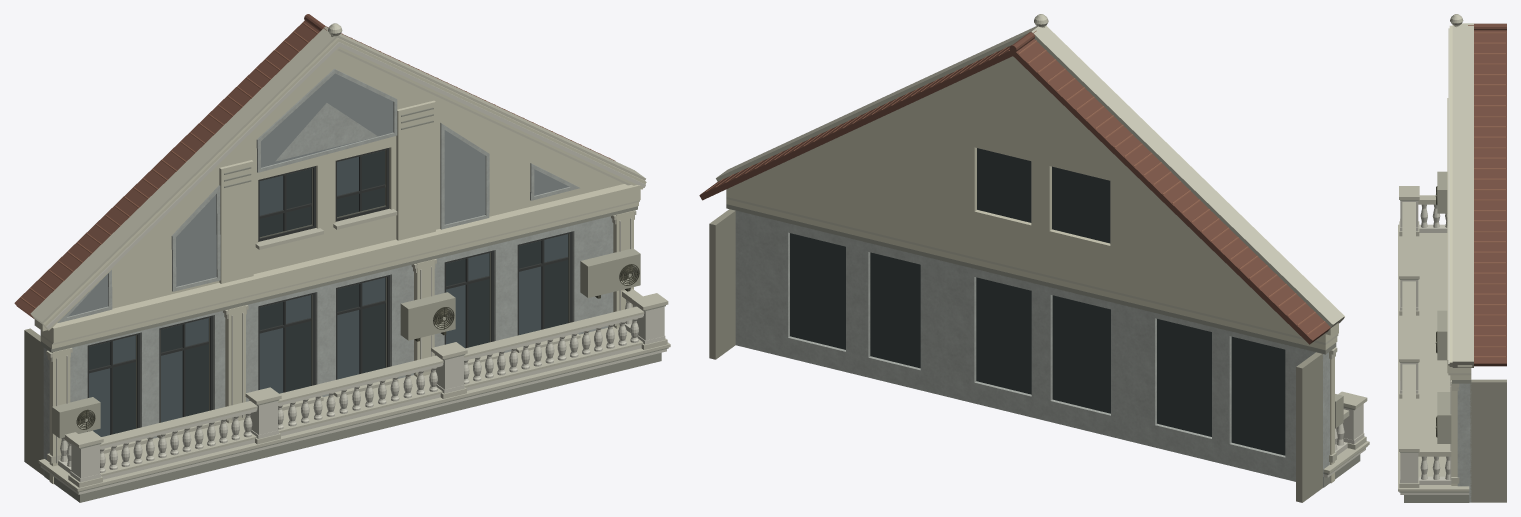
The model's file is yangpu-fudan-zibin-hall-lawn-gable-raw.glb.
3 views of the same model, side by side, from view 1: azimuth 30°, elevation 25°; view 2: azimuth 150°, elevation 25°; view 3: azimuth 270°, elevation 25° (orthographic). The views are drawn at different scales.
Visible parts, largest first — view 1: 复旦大学子彬院草坪侧三角山墙与阳台; view 2: 复旦大学子彬院草坪侧三角山墙与阳台; view 3: 复旦大学子彬院草坪侧三角山墙与阳台.
Boxes of the visible parts, box(x1,y1,x2,y2) form: 复旦大学子彬院草坪侧三角山墙与阳台: box(14, 14, 670, 502); 复旦大学子彬院草坪侧三角山墙与阳台: box(699, 14, 1369, 502); 复旦大学子彬院草坪侧三角山墙与阳台: box(1398, 14, 1506, 502).
Bounding box in the file's own units: 13.59 × 8.35 × 2.32.
Materials: 16 (1 with a texture image).
